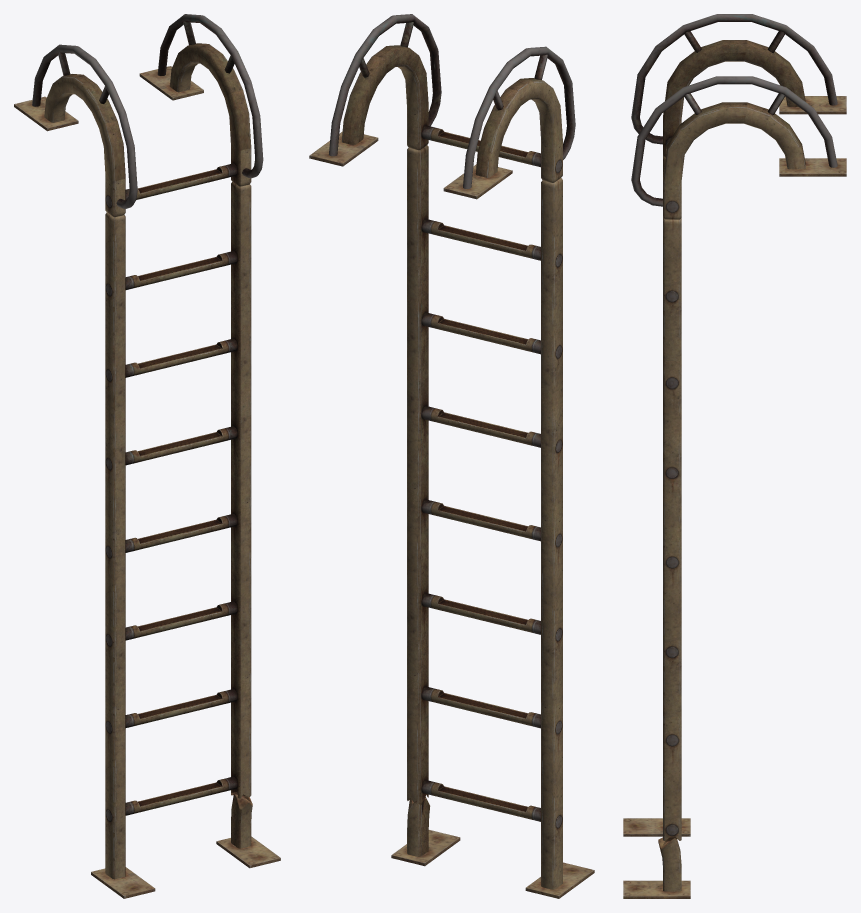
Rendered from 01_02_ladder_collapse.dae.
3 views of the same model, side by side, from view 1: azimuth 30°, elevation 25°; view 2: azimuth 150°, elevation 25°; view 3: azimuth 270°, elevation 25° (orthographic). The views are drawn at different scales.
Parts seen in each view (by area): view 1: Mesh, base; view 2: Mesh, base; view 3: base, Mesh.
Part boxes in pixels (left/top/right/bottom): Mesh: left=105, top=182, right=251, bottom=879; base: left=14, top=14, right=280, bottom=898; Mesh: left=407, top=145, right=562, bottom=889; base: left=309, top=14, right=594, bottom=898; base: left=623, top=14, right=846, bottom=898; Mesh: left=663, top=156, right=681, bottom=841.
Bounding box in the file's own units: 0.9375 × 4.58 × 1.14.
